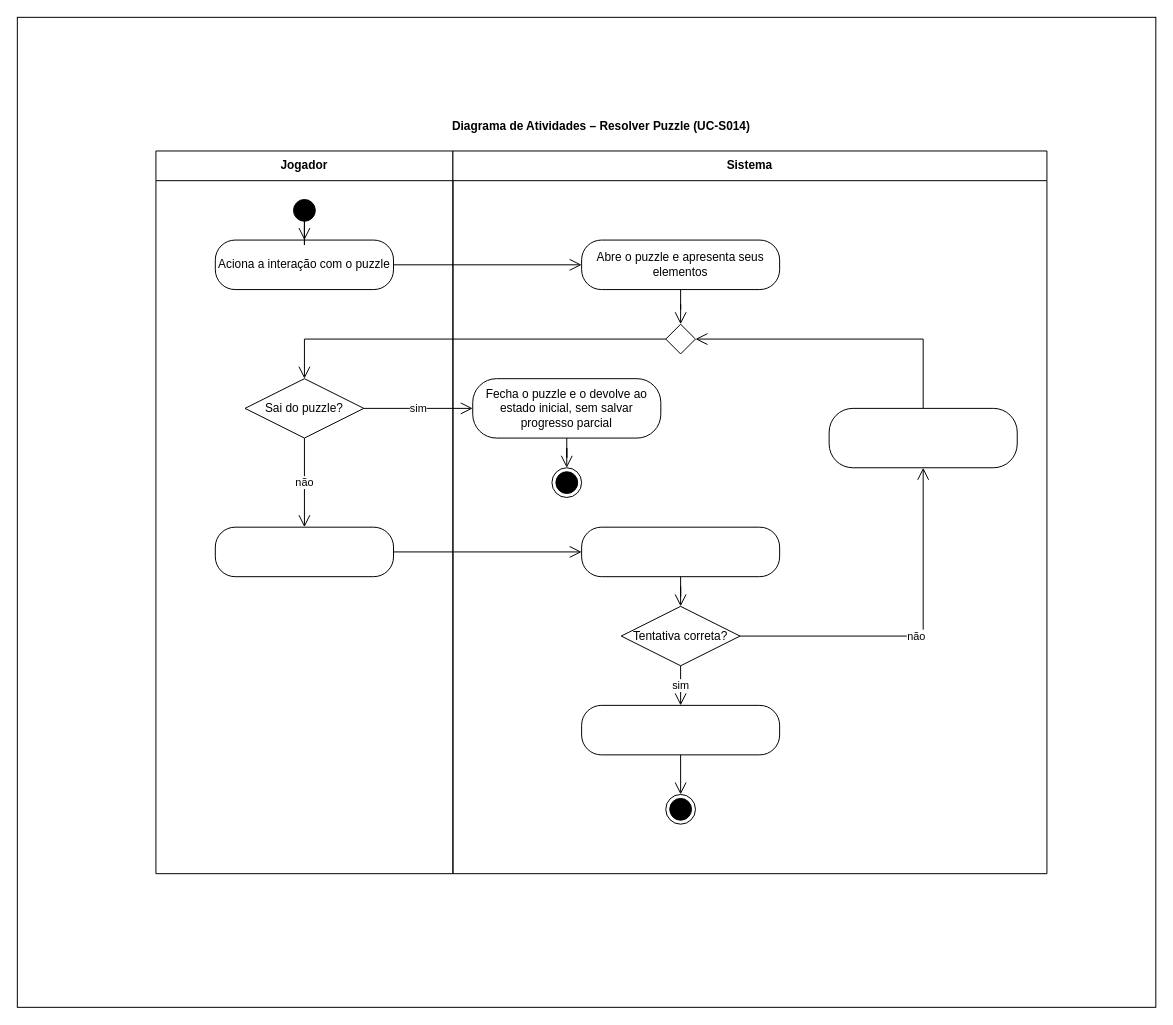
The diagram is 1173 pixels wide and 1025 high, and some of its shapes have lost their labels. The centre of each missing label's shape, as x and y in pixels:
Faz uma tentativa: point (304, 551)
Indica que a tentativa não resolveu o puzzle, sem punição sistêmica: point (922, 437)
Registra o puzzle como concluído: point (680, 729)
Verifica a tentativa: point (680, 551)
